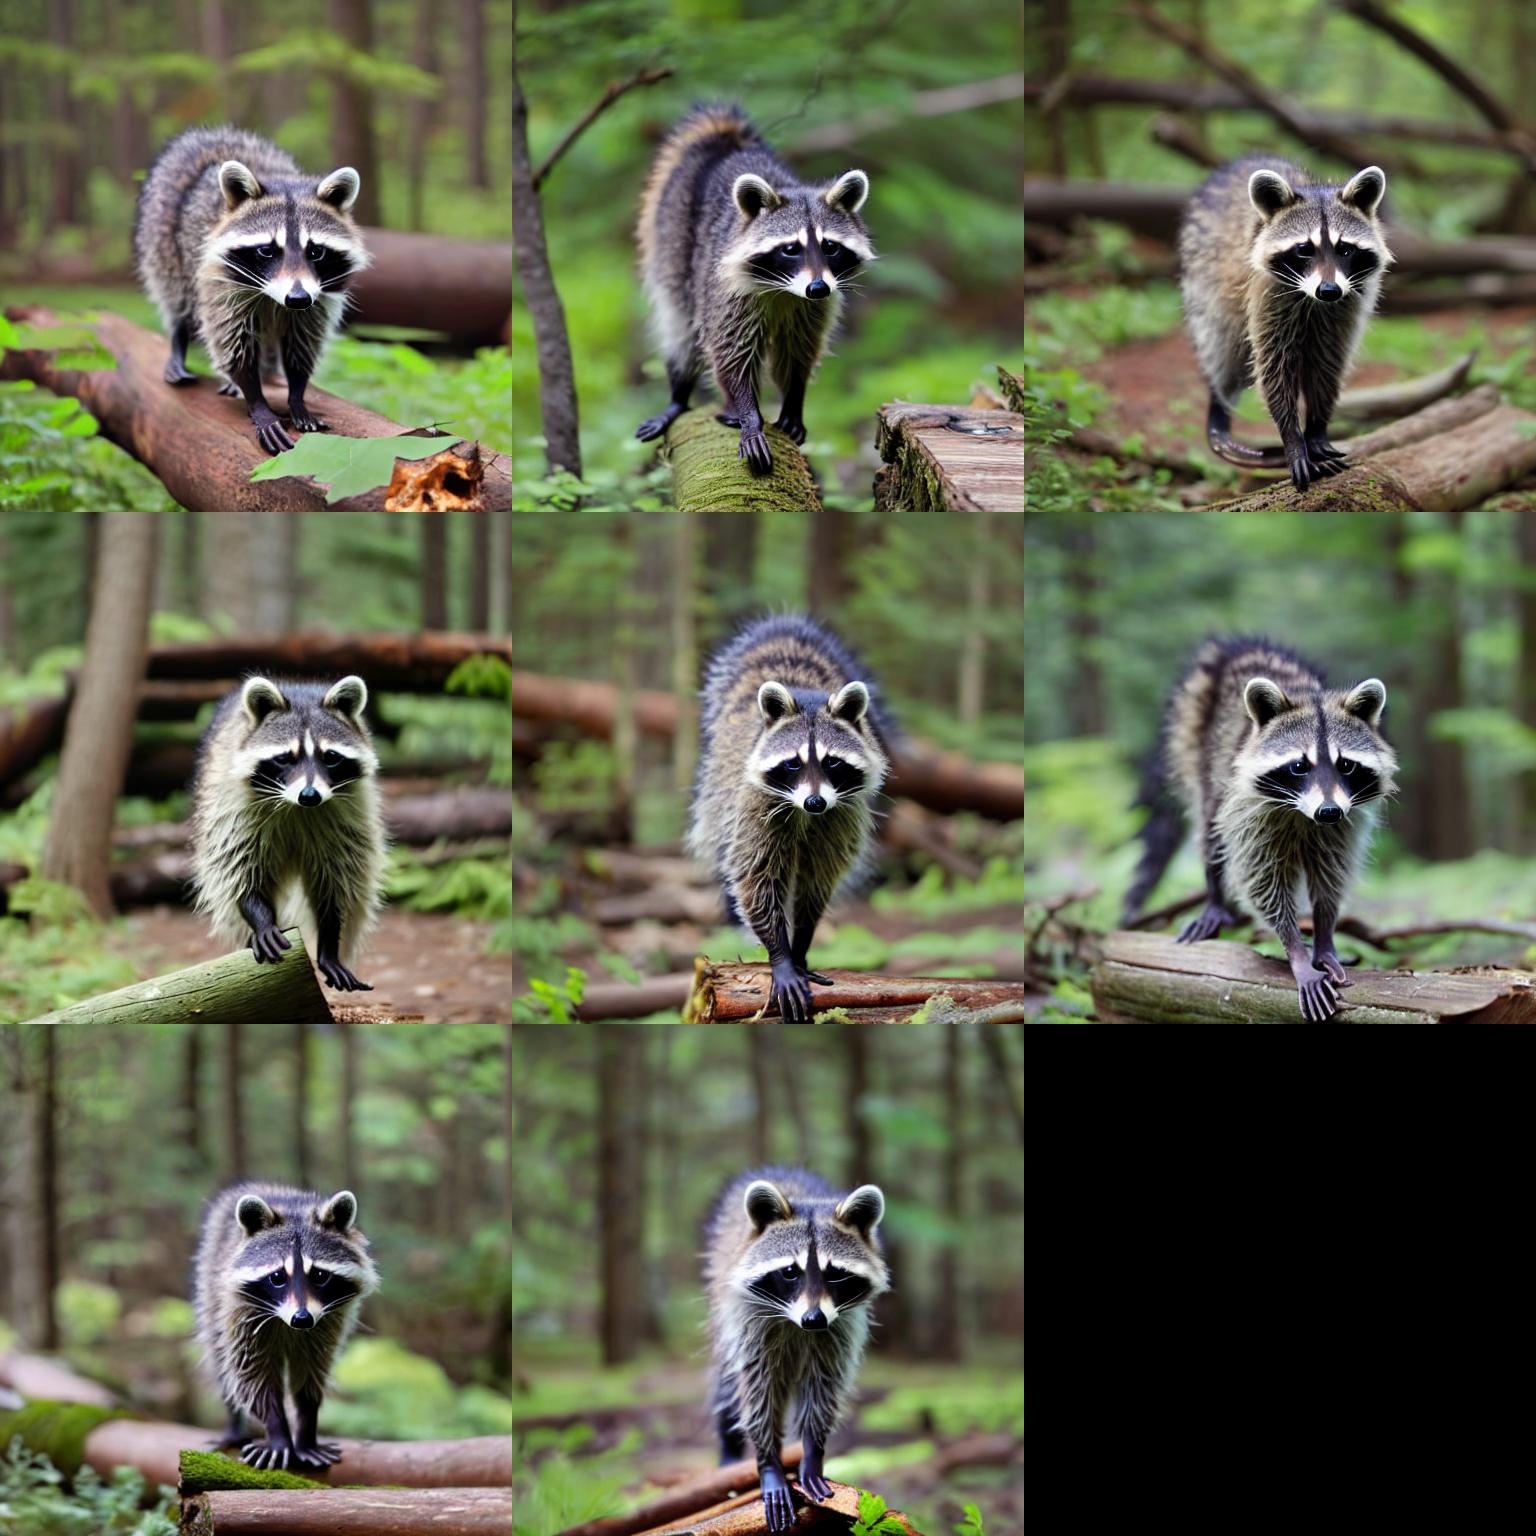raccoon: (674, 603, 904, 930), (1139, 623, 1407, 904), (630, 103, 882, 390), (127, 117, 380, 378), (689, 1156, 902, 1438), (1172, 148, 1401, 404), (184, 660, 392, 923), (180, 1167, 388, 1416)
